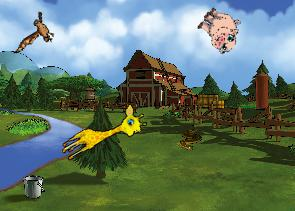eagle: (13, 7, 59, 61)
giraffe: (57, 100, 150, 171)
pig: (191, 2, 247, 57)
